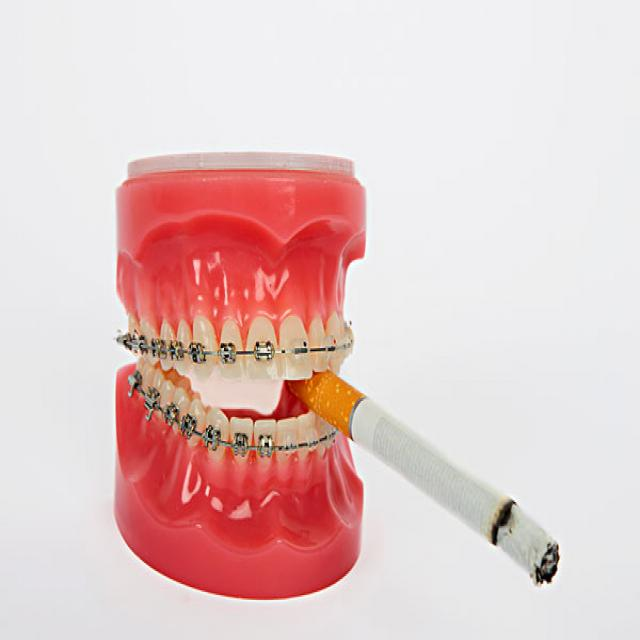smoking: (297, 367, 561, 589)
